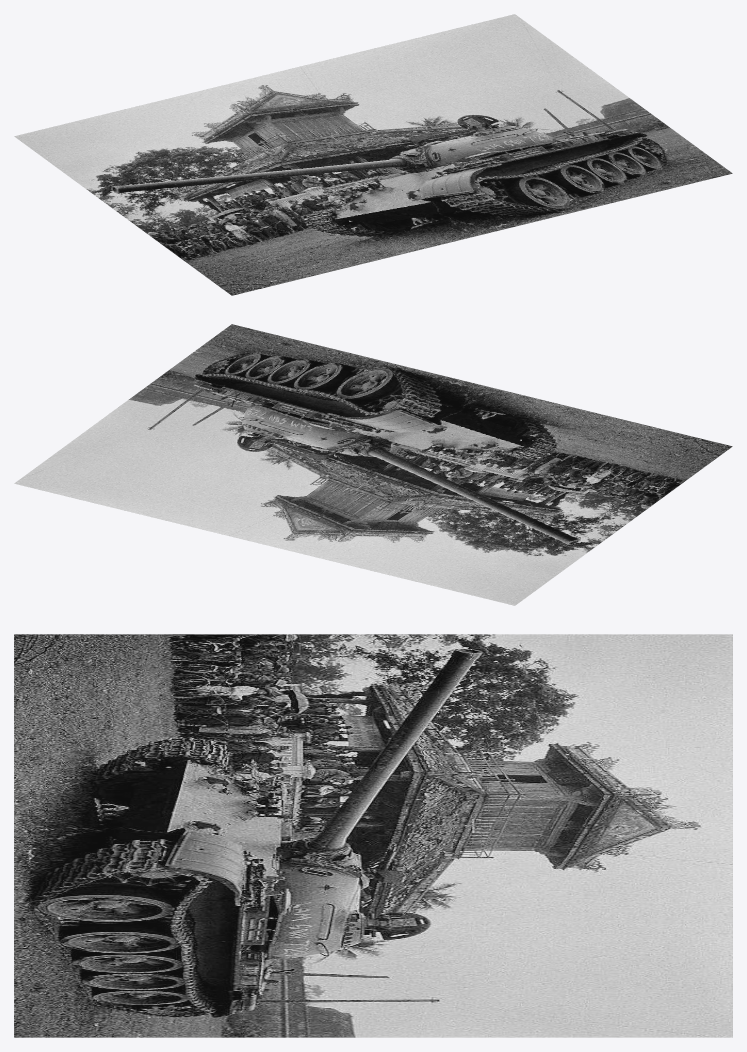
3 renders of one model, top to bottom at view 1: azimuth 30°, elevation 25°; view 2: azimuth 150°, elevation 25°; view 3: azimuth 270°, elevation 25°, orthographic. The views are drawn at different scales.
Parts seen in each view (by area): view 1: Plane; view 2: Plane; view 3: Plane.
Part boxes in pixels (x1=…): Plane: x1=14, y1=14, x2=732, y2=295; Plane: x1=14, y1=324, x2=732, y2=605; Plane: x1=14, y1=634, x2=732, y2=1037.
Bounding box in the file's own units: 531 × 0 × 400.
1 material, 1 textured.
